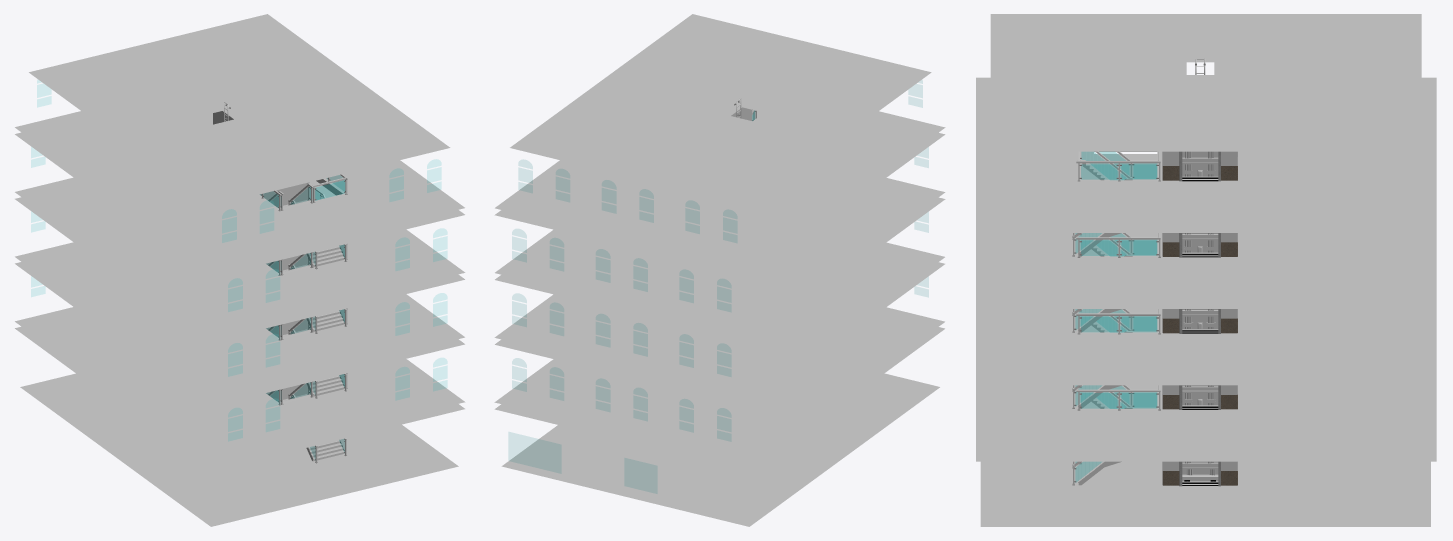
The model's file is SM_Building19_V3_Interior.fbx.
The picture shows the model from 3 angles, left to right: view 1: azimuth 30°, elevation 25°; view 2: azimuth 150°, elevation 25°; view 3: azimuth 270°, elevation 25°; orthographic projection. The views are drawn at different scales.
Visible parts, largest first — view 1: SM_Building19_V3_Interior; view 2: SM_Building19_V3_Interior; view 3: SM_Building19_V3_Interior.
Boxes of the visible parts, left/top/right/bottom form: SM_Building19_V3_Interior: left=15, top=14, right=465, bottom=526; SM_Building19_V3_Interior: left=494, top=14, right=945, bottom=526; SM_Building19_V3_Interior: left=976, top=14, right=1436, bottom=526.
Size of the model in its own units: 1675 by 2169 by 2237.
